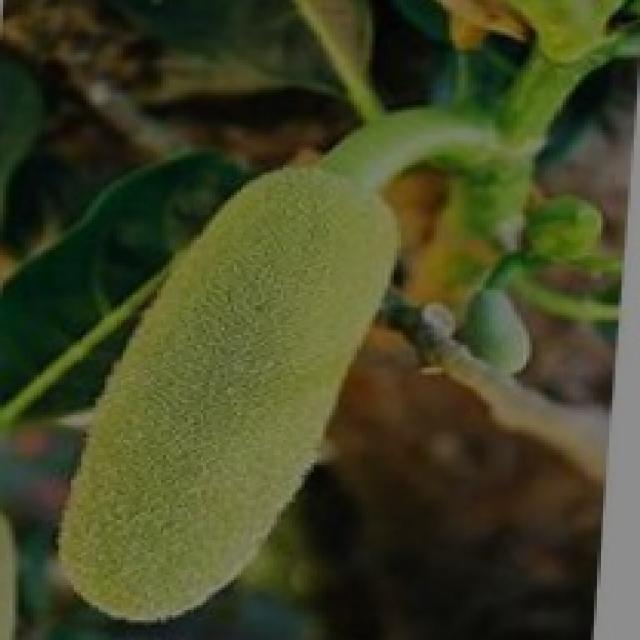Fruit: (6, 262, 403, 640)
